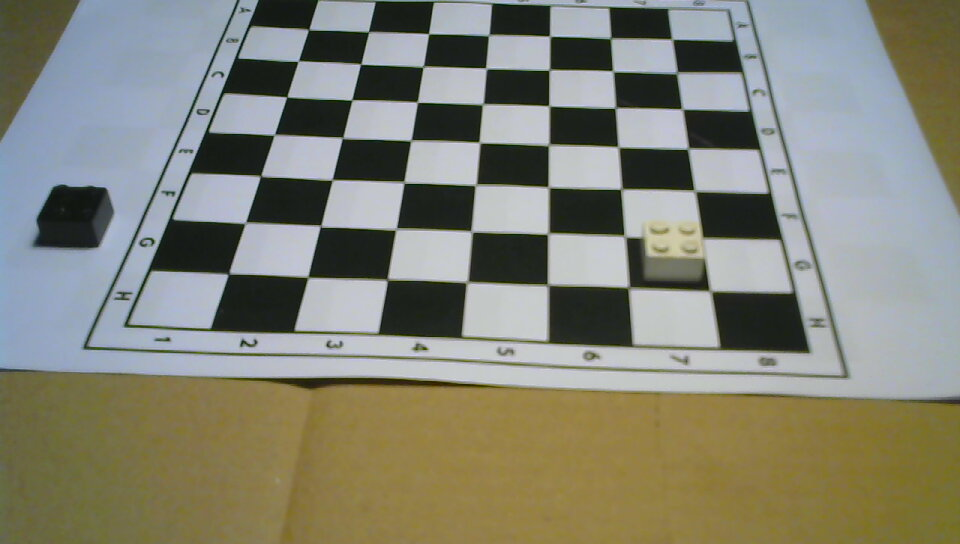bp: (36, 183, 113, 247)
wp: (641, 217, 706, 282)
